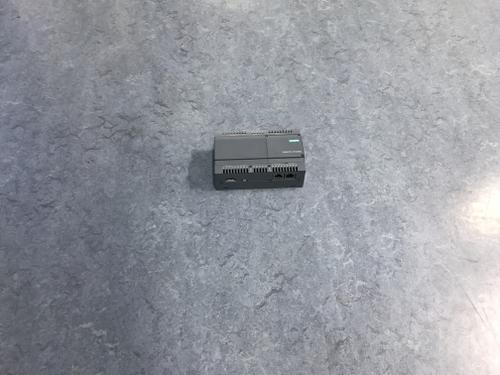device: (213, 128, 306, 190)
